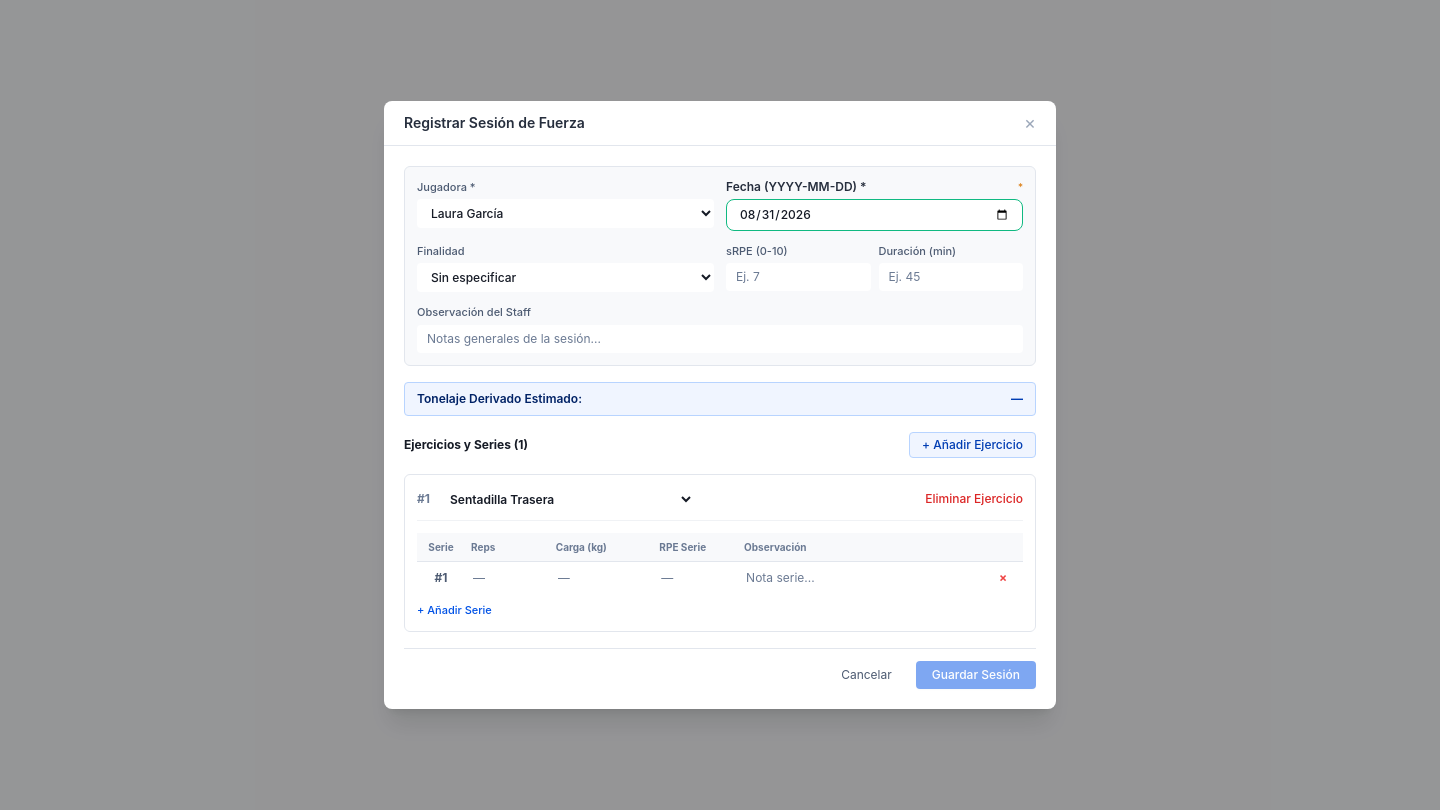
StrengthFormModal (Alta y Edición de Fuerza) › 17. Entrada de RPE fuera de rango (15) bloquea el envío y muestra error
This screenshot has width=1440, height=810.
Select "Laura García" in the dropdown below "Jugadora *" at (566, 214), box [417,199,714,228]
Type "10" into the 1st number field with placeholder "—" at (501, 578), box [469,566,533,590]
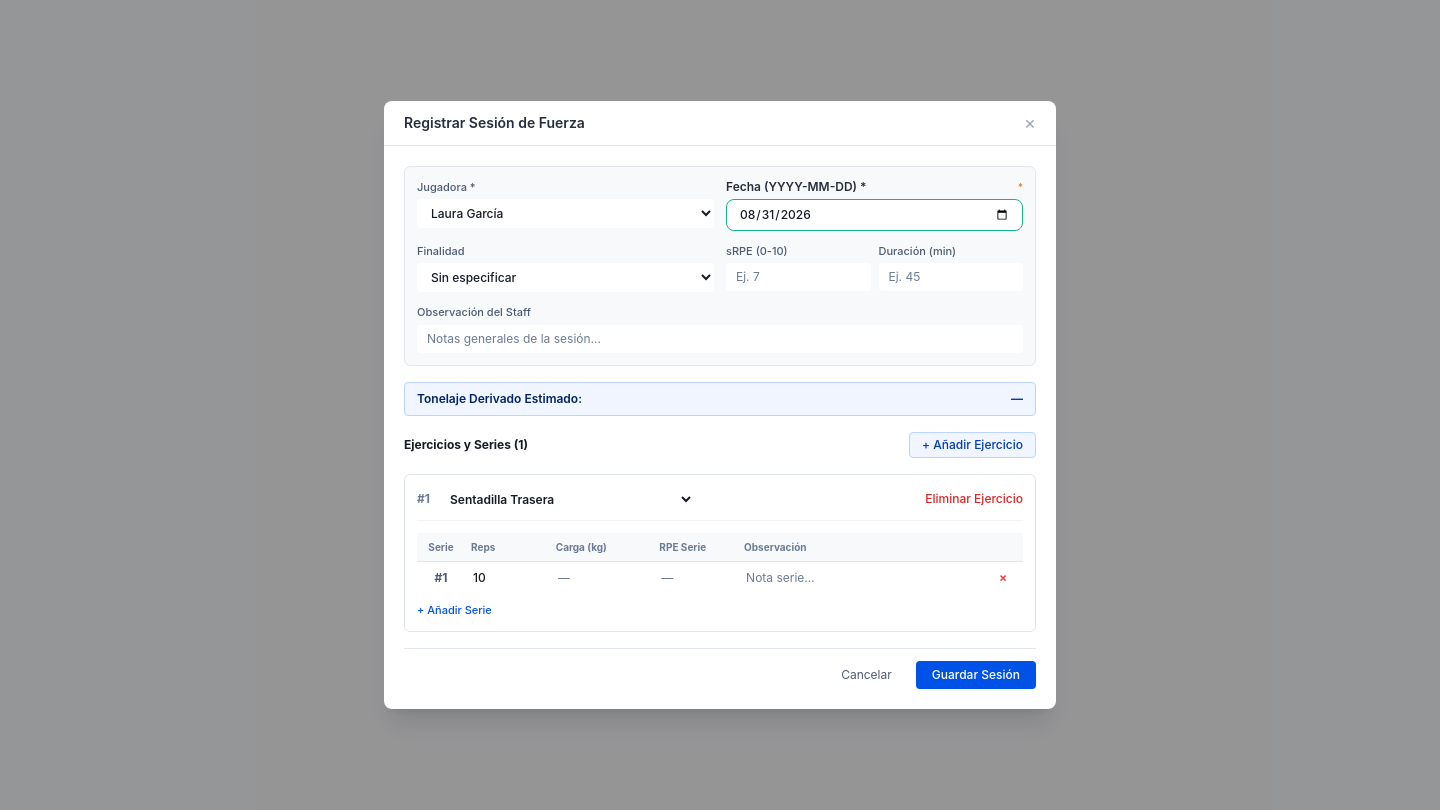
Type "50" into the 1st number field with placeholder "—" at (594, 578), box [554,566,634,590]
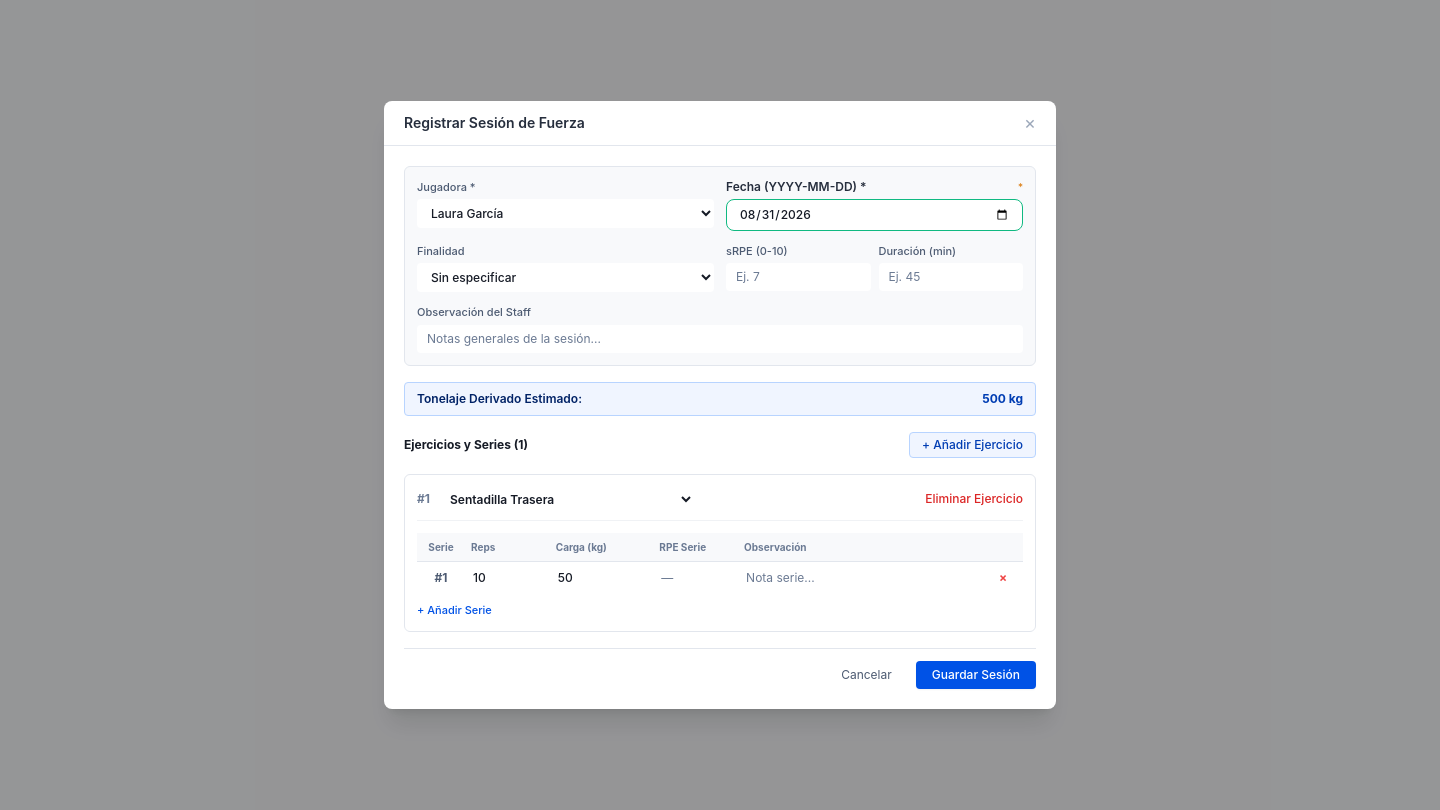
Type "15" into the number field with placeholder "—" at (689, 578), box [657,566,721,590]
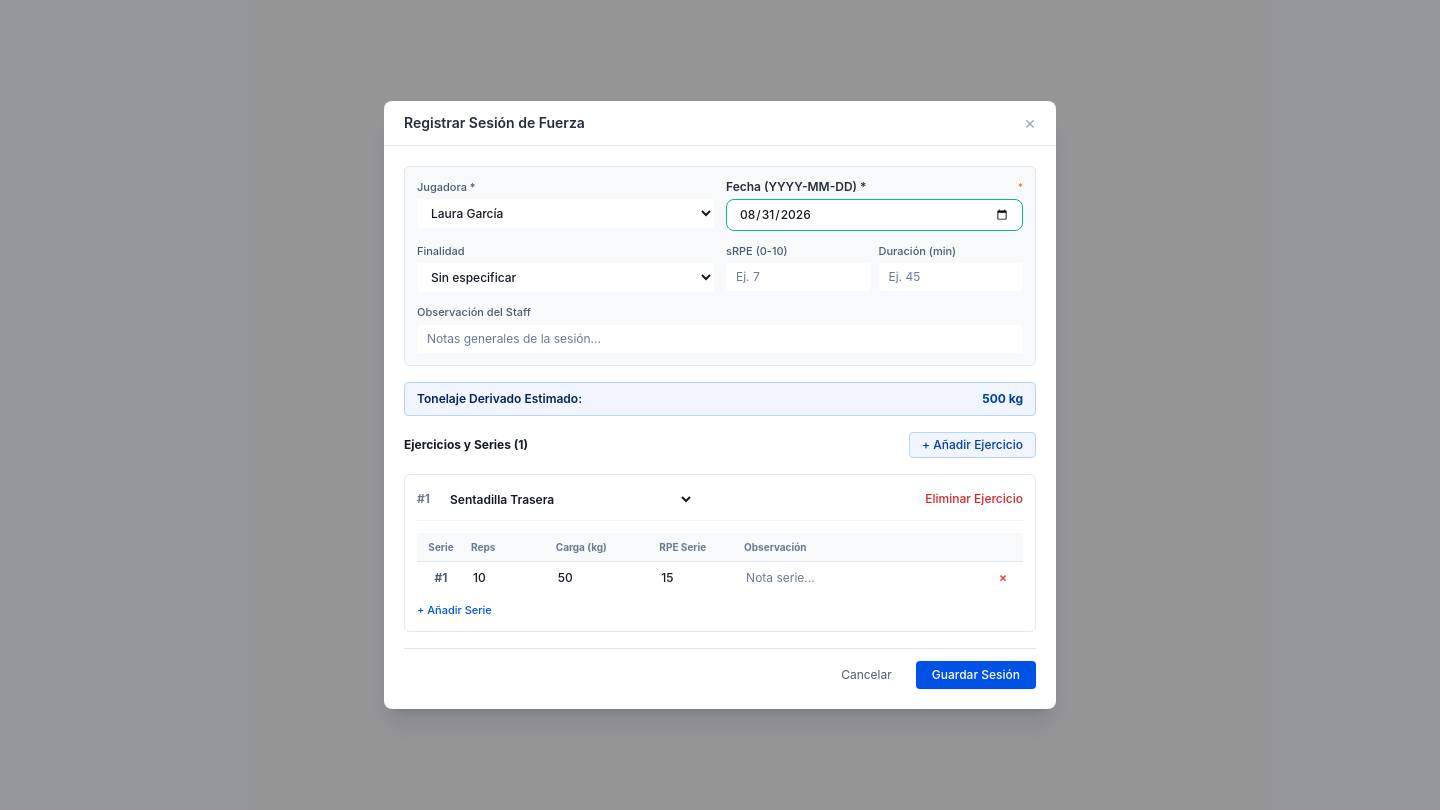
Submit the form named "Guardar Sesión", box [404,166,1036,689]
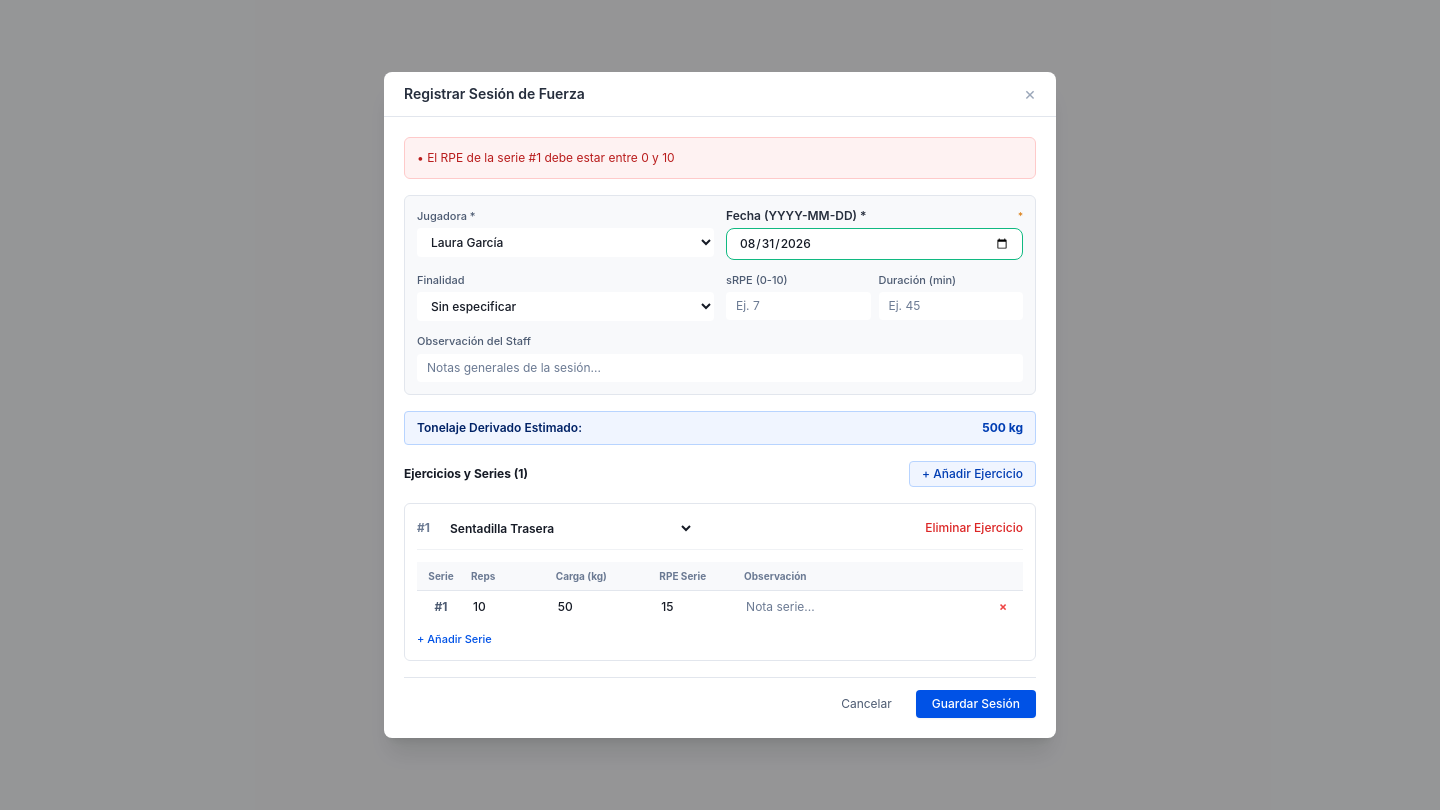
Check: the text "• El RPE de la serie #1 debe estar entre 0 y 10" is shown, box [417,150,675,165]
